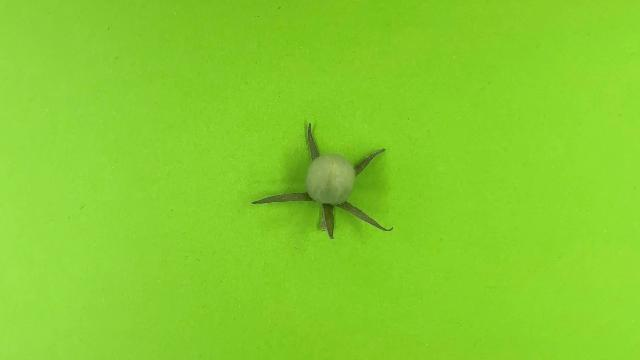Fruit Maturation: (305, 153, 357, 206)
